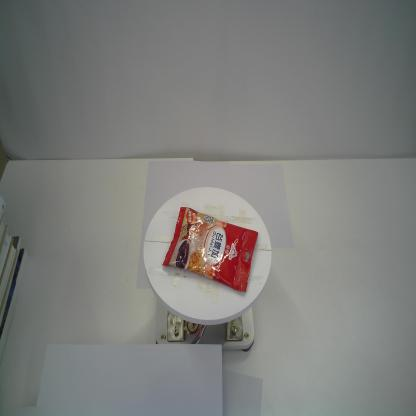Instant Drink: (161, 205, 259, 293)
